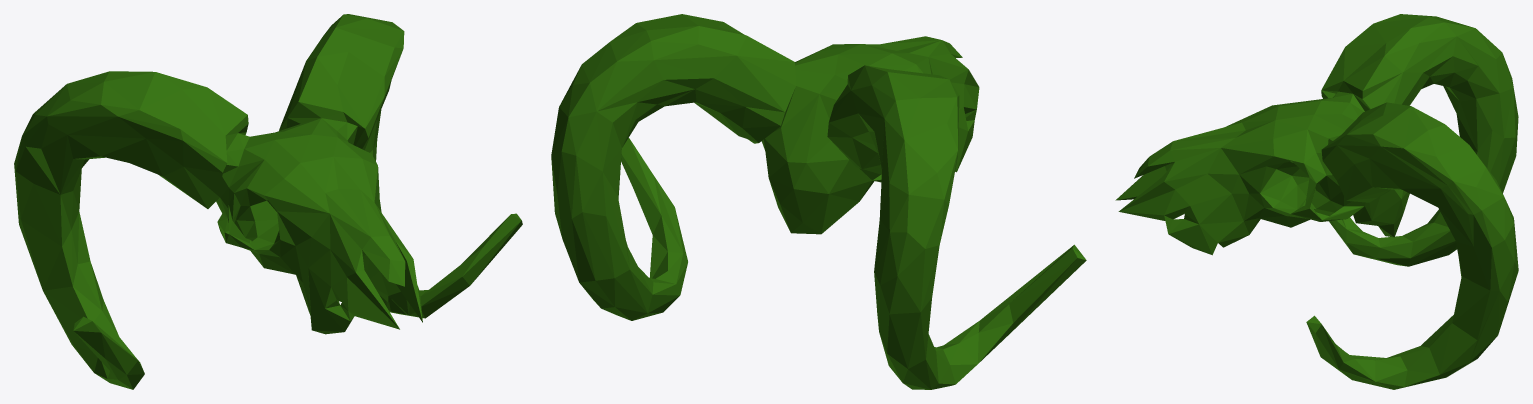
File: SkeletonGoatHead.fbx
3 renders of one model, left to right at view 1: azimuth 30°, elevation 25°; view 2: azimuth 150°, elevation 25°; view 3: azimuth 270°, elevation 25°, orthographic. The views are drawn at different scales.
Parts seen in each view (by area): view 1: SkeletonGoatHead; view 2: SkeletonGoatHead; view 3: SkeletonGoatHead.
Part boxes in pixels (left/top/right/bottom): SkeletonGoatHead: left=14, top=14, right=522, bottom=389; SkeletonGoatHead: left=551, top=14, right=1086, bottom=389; SkeletonGoatHead: left=1115, top=14, right=1518, bottom=389.
Bounding box in the file's own units: 284 × 176 × 248.
